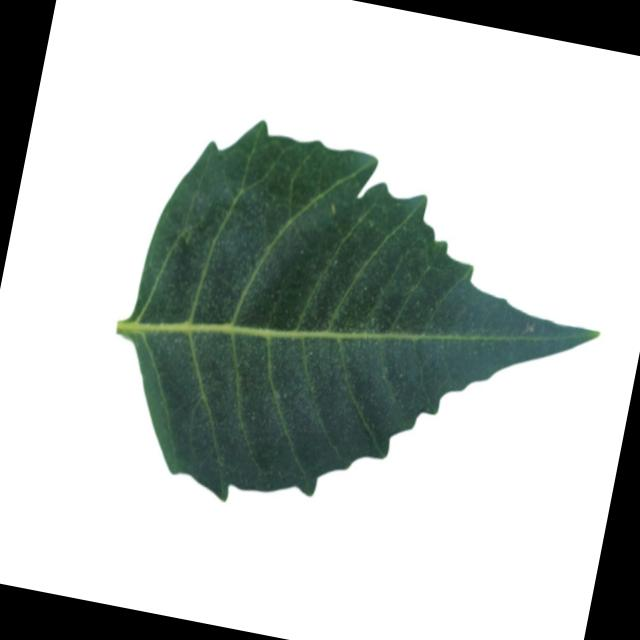Medicinal-Neem: (86, 97, 630, 563)
